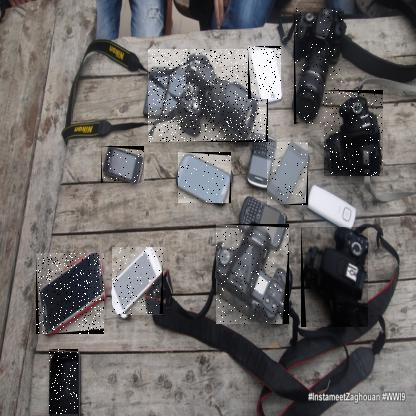Camera: (149, 50, 270, 144), (217, 225, 291, 326), (302, 228, 370, 329), (295, 9, 344, 126), (37, 254, 106, 336), (326, 91, 386, 178), (113, 249, 165, 319), (179, 154, 233, 206), (268, 143, 310, 207), (50, 350, 80, 416), (249, 47, 283, 101), (102, 147, 146, 185)
